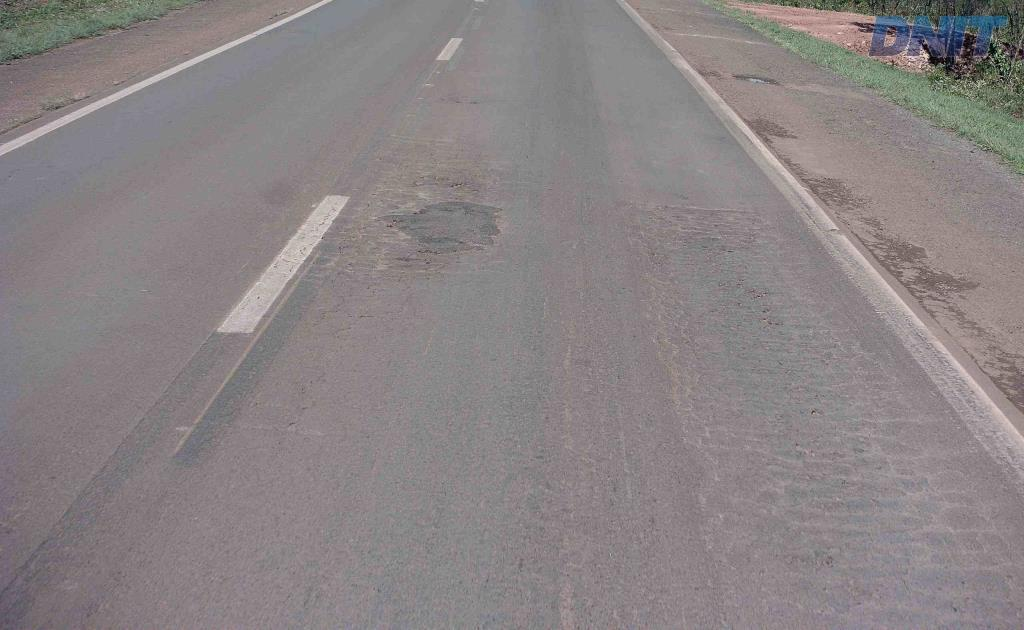crack: (672, 226, 749, 266), (717, 275, 774, 302)
